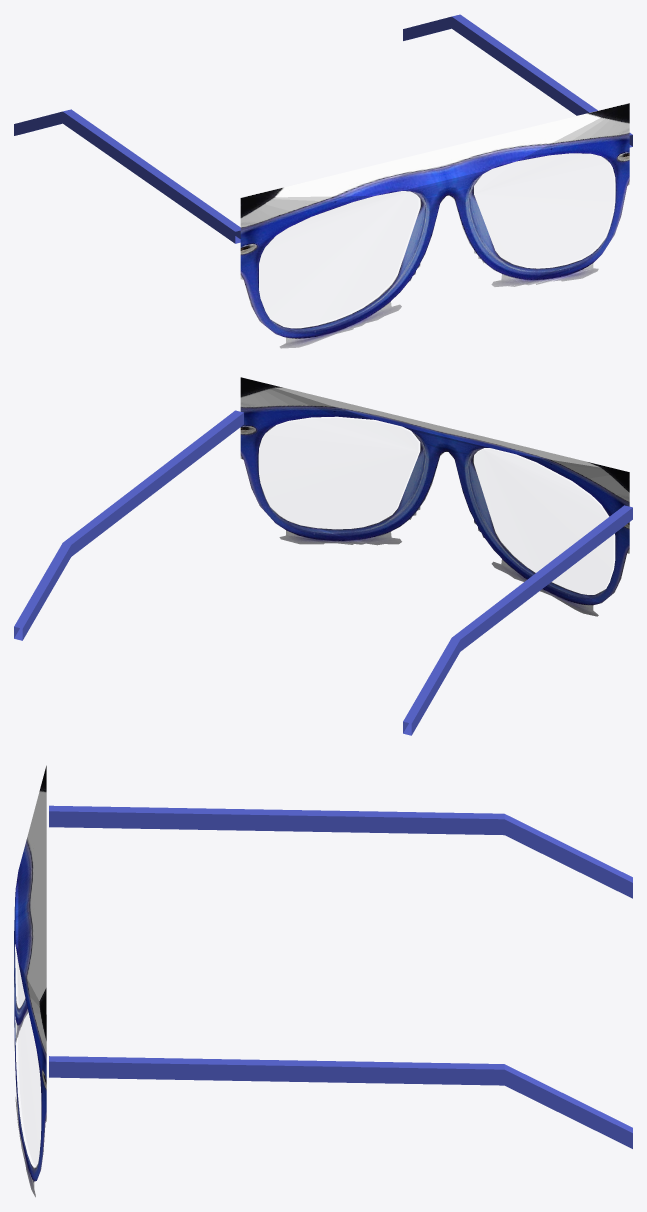
Rendered from gothamstyle-matte-253_matte-blue.glb.
The picture shows the model from 3 angles, top to bottom: view 1: azimuth 30°, elevation 25°; view 2: azimuth 150°, elevation 25°; view 3: azimuth 270°, elevation 25°; orthographic projection. The views are drawn at different scales.
Parts seen in each view (by area): view 1: frame_front, temple_viewer_left, temple_viewer_right; view 2: frame_front, temple_viewer_left, temple_viewer_right; view 3: temple_viewer_right, temple_viewer_left, frame_front.
Part boxes in pixels (x1,y1,x2,y2): frame_front: [240, 103, 629, 348]; temple_viewer_left: [14, 109, 240, 243]; temple_viewer_right: [403, 14, 632, 147]; frame_front: [240, 377, 629, 616]; temple_viewer_left: [403, 505, 632, 735]; temple_viewer_right: [14, 410, 243, 640]; temple_viewer_right: [49, 1056, 632, 1148]; temple_viewer_left: [49, 805, 632, 898]; frame_front: [14, 765, 46, 1197].
Bounding box in the file's own units: 0.138 × 0.0525 × 0.141.
Materials: 3 (2 with a texture image).
